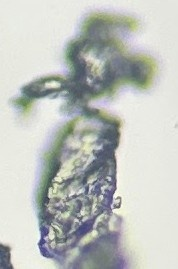microplastic: (7, 7, 157, 269), (1, 242, 14, 269)
